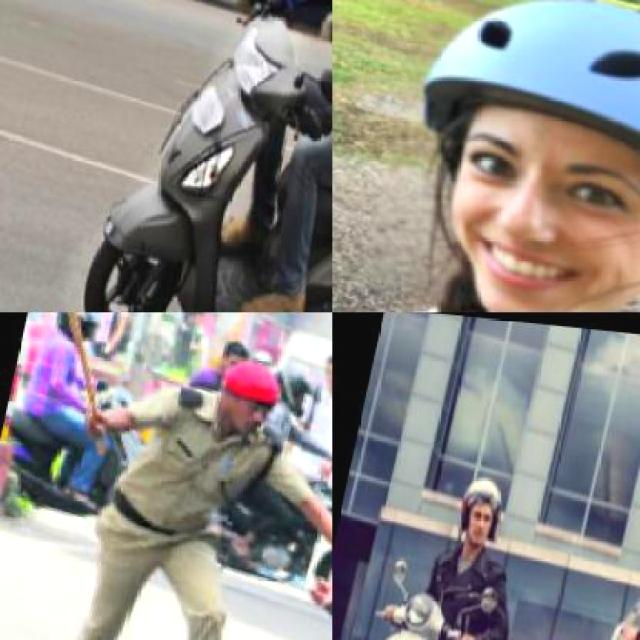With Helmet: (362, 0, 638, 311), (441, 458, 522, 554), (270, 352, 325, 418), (56, 312, 104, 348)
